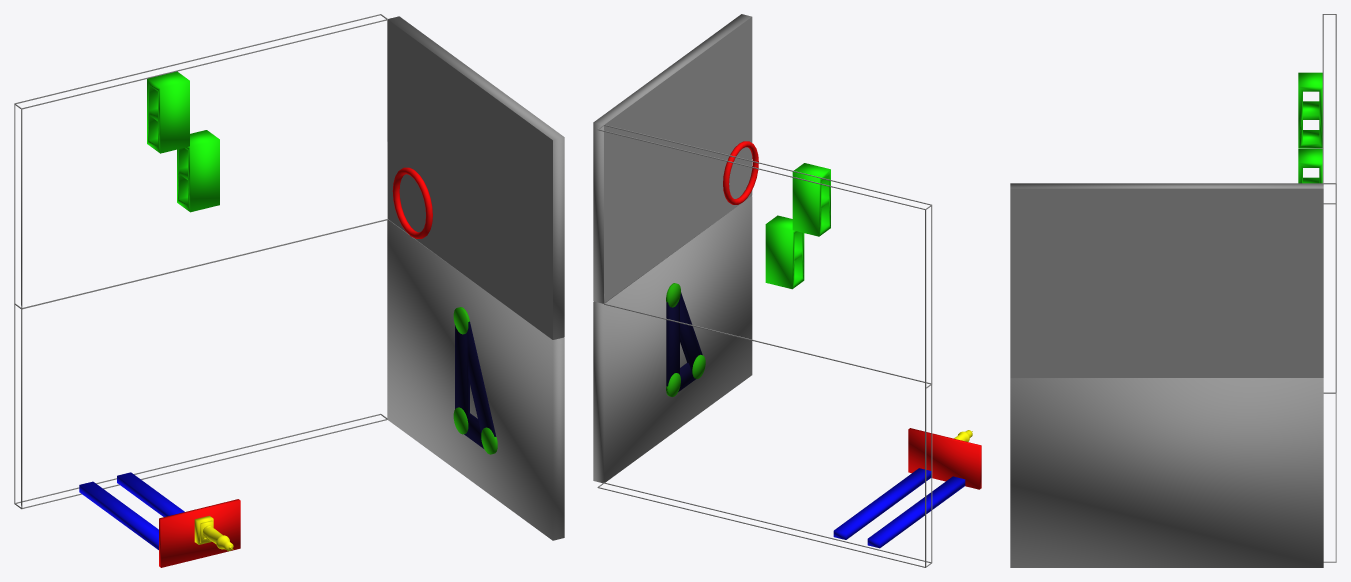
Rendered from ManualTestBed.obj.
3 renders of one model, left to right at view 1: azimuth 30°, elevation 25°; view 2: azimuth 150°, elevation 25°; view 3: azimuth 270°, elevation 25°, orthographic. The views are drawn at different scales.
Parts seen in each view (by area): view 1: 4, 8, 6, 2, 3, Shape001, Shape002, 16, 14, 10, 15, 17 (+1 smaller); view 2: 4, 8, 6, 2, 3, Shape001, Shape002, 17, 16, 10, 15, 14; view 3: 4, 8, 2, Shape001, Shape002, 3.
Part boxes in pixels (<box>): 4: <box>387,16,564,339</box>; 8: <box>387,220,564,540</box>; 6: <box>159,499,240,567</box>; 2: <box>147,71,189,153</box>; 3: <box>177,130,219,212</box>; Shape001: <box>14,219,387,509</box>; Shape002: <box>14,14,387,309</box>; 16: <box>79,481,158,549</box>; 14: <box>468,321,496,436</box>; 10: <box>455,325,469,422</box>; 15: <box>392,167,432,238</box>; 17: <box>117,472,184,516</box>; 4: <box>593,14,752,303</box>; 8: <box>593,196,752,483</box>; 6: <box>908,428,981,489</box>; 2: <box>792,163,830,236</box>; 3: <box>765,215,804,289</box>; Shape001: <box>597,303,932,567</box>; Shape002: <box>597,124,932,388</box>; 17: <box>833,468,931,539</box>; 16: <box>867,476,965,548</box>; 10: <box>666,298,679,386</box>; 15: <box>723,141,758,204</box>; 14: <box>680,292,702,372</box>; 4: <box>1010,183,1323,377</box>; 8: <box>1010,378,1323,567</box>; 2: <box>1298,72,1322,148</box>; Shape001: <box>1323,203,1336,562</box>; Shape002: <box>1322,14,1336,203</box>; 3: <box>1298,149,1322,183</box>.
Bounding box in the file's own units: 2.41 × 2.44 × 1.91.
